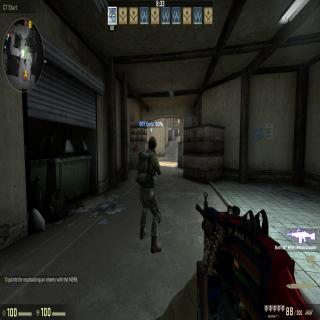CT-Body: (136, 134, 164, 253)
CT-Head: (147, 134, 157, 156)
